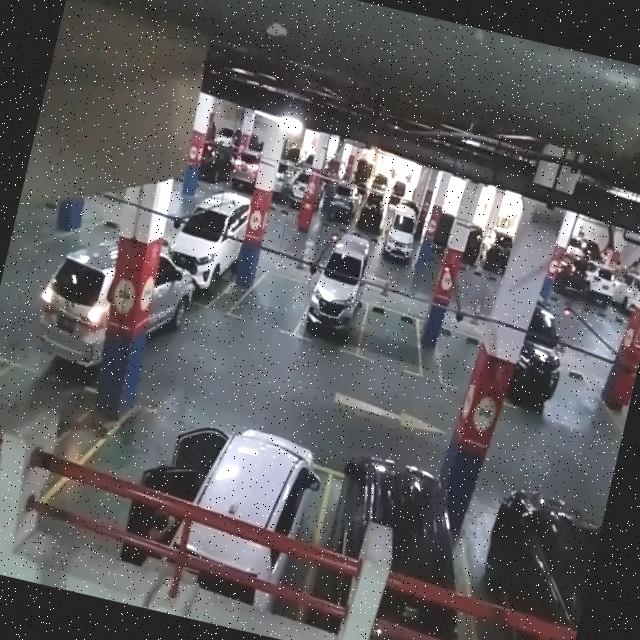empty: (68, 390, 212, 552), (0, 349, 101, 511), (352, 296, 436, 378), (228, 264, 314, 338), (425, 324, 490, 397)
occupied: (291, 468, 489, 640), (173, 424, 338, 621), (163, 194, 251, 314), (294, 248, 378, 356)
